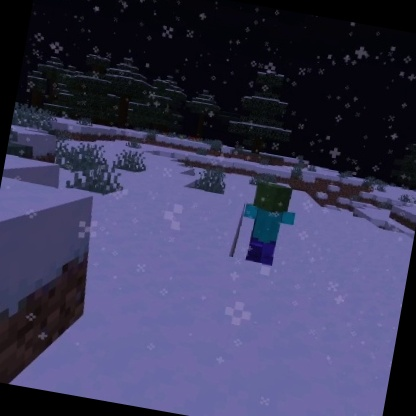zombie: (233, 176, 305, 270)
